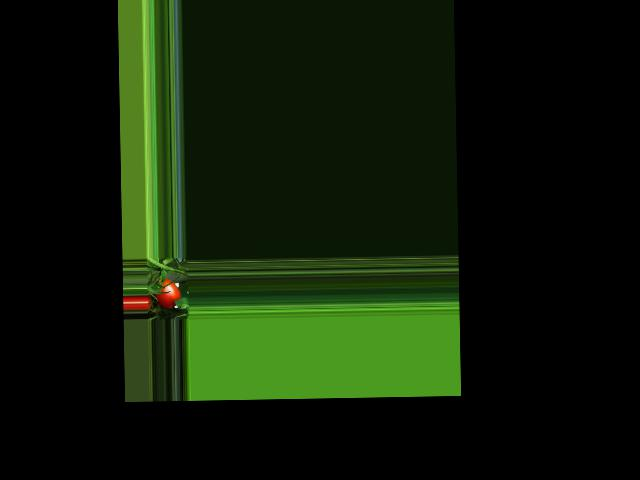tomato: (154, 278, 180, 309)
